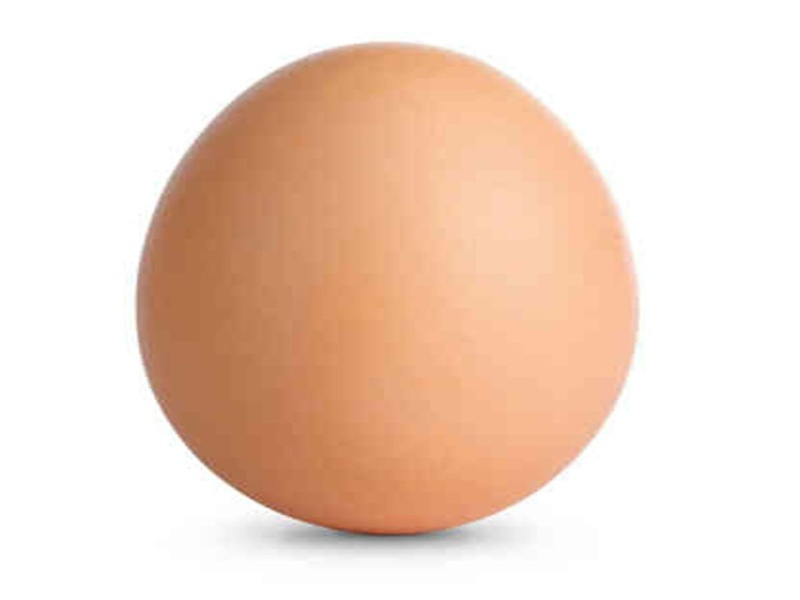Huevo: (136, 42, 640, 533)
